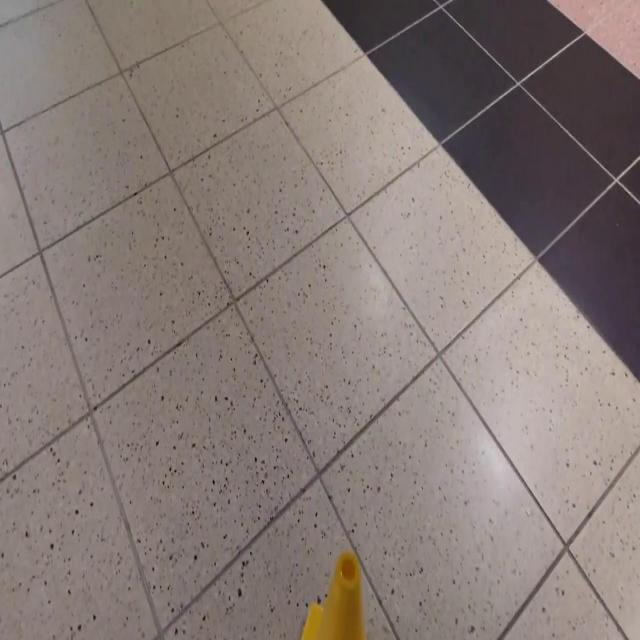frc_cone: (301, 502, 368, 640)
